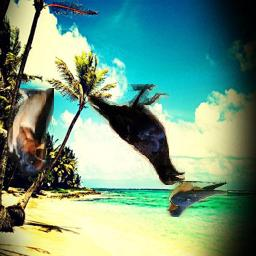Crow: (89, 85, 186, 186)
Swallow: (8, 88, 55, 176), (167, 181, 228, 217)
